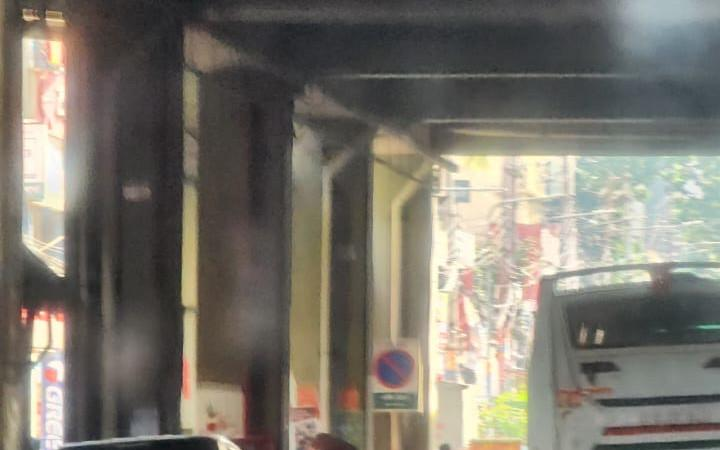No Parking: (368, 333, 425, 412)
